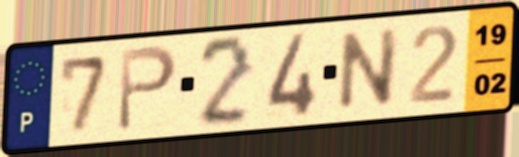2: (194, 32, 261, 133), (406, 21, 460, 105)
4: (263, 30, 320, 120)
7: (58, 51, 110, 135)
N: (334, 24, 403, 114)
P: (114, 42, 180, 135)
